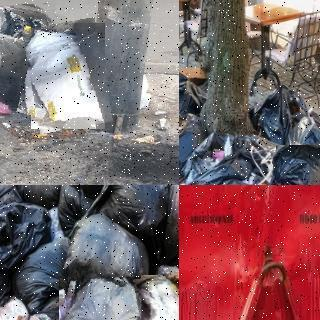Garbage: (27, 20, 109, 132), (0, 0, 60, 111), (63, 213, 149, 286), (179, 130, 276, 185), (53, 272, 149, 320), (0, 202, 48, 281), (253, 85, 307, 143), (110, 185, 170, 235), (179, 71, 203, 167), (273, 142, 320, 185), (137, 273, 179, 320), (286, 109, 320, 154), (0, 300, 55, 320), (16, 185, 65, 204)
